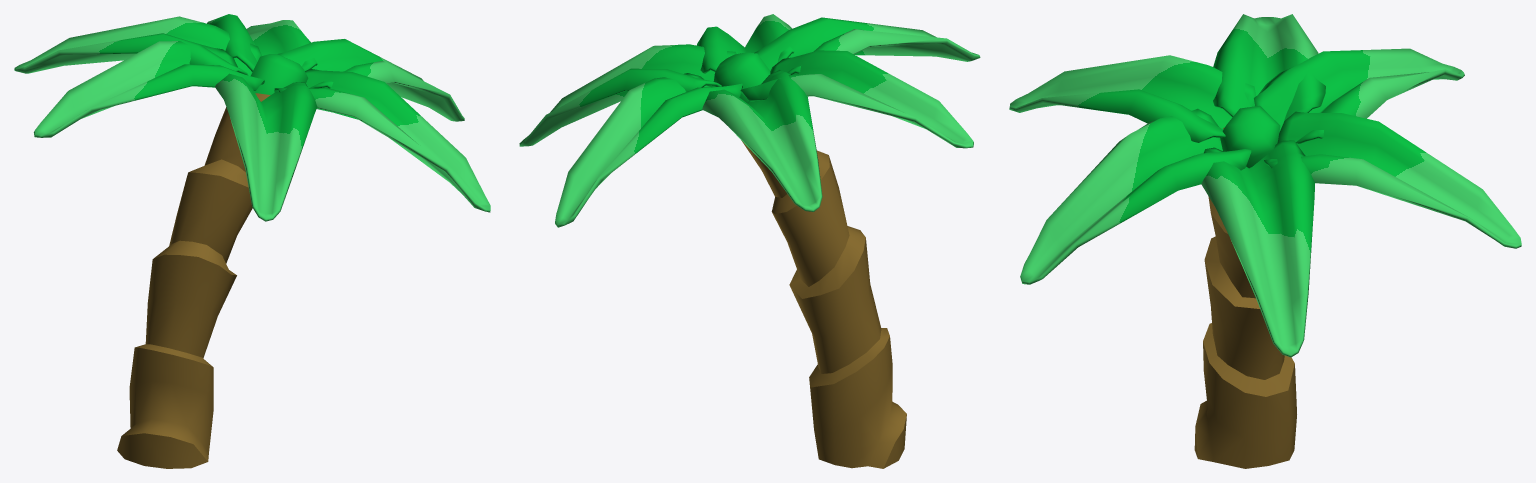
File: palmtree.fbx
The picture shows the model from 3 angles, left to right: view 1: azimuth 30°, elevation 25°; view 2: azimuth 150°, elevation 25°; view 3: azimuth 270°, elevation 25°; orthographic projection. The views are drawn at different scales.
Visible parts, largest first — view 1: PalmTree; view 2: PalmTree; view 3: PalmTree.
Part boxes in pixels (x1=…): PalmTree: x1=14, y1=14, x2=490, y2=468; PalmTree: x1=519, y1=14, x2=980, y2=468; PalmTree: x1=1009, y1=14, x2=1521, y2=468.
Size of the model in its own units: 2.73 by 2.54 by 2.3.
